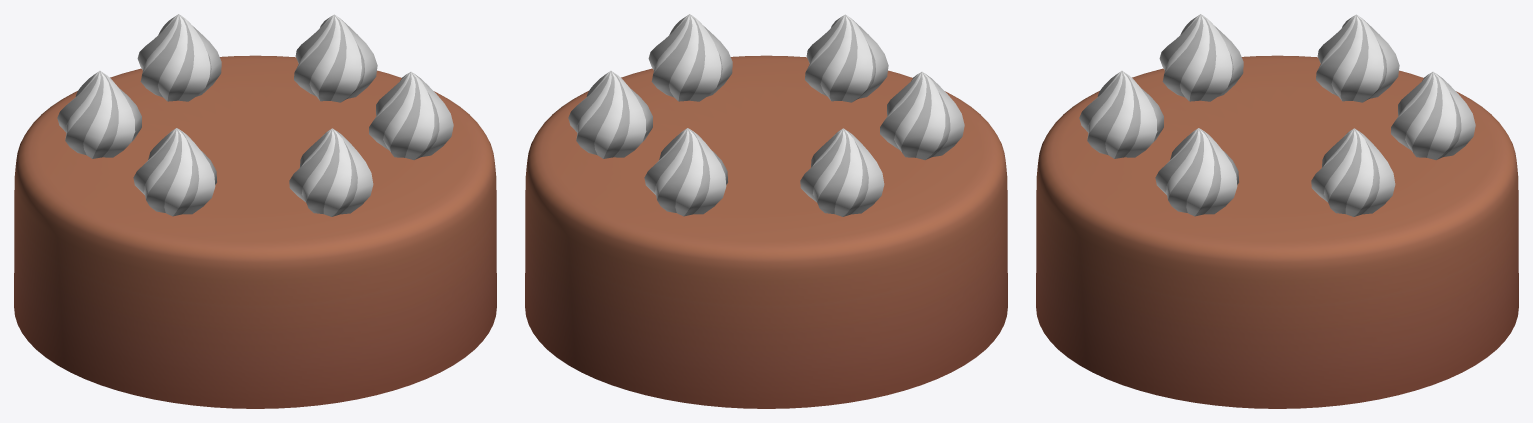
File: cake05.FBX
The picture shows the model from 3 angles, left to right: view 1: azimuth 30°, elevation 25°; view 2: azimuth 150°, elevation 25°; view 3: azimuth 270°, elevation 25°; orthographic projection.
Parts seen in each view (by area): view 1: cake05; view 2: cake05; view 3: cake05.
Part boxes in pixels (box(x1,y1,x2,y2)): cake05: box(14, 14, 496, 408); cake05: box(525, 14, 1007, 408); cake05: box(1036, 14, 1518, 408).
Size of the model in its own units: 0.0193 by 0.0104 by 0.0193.
